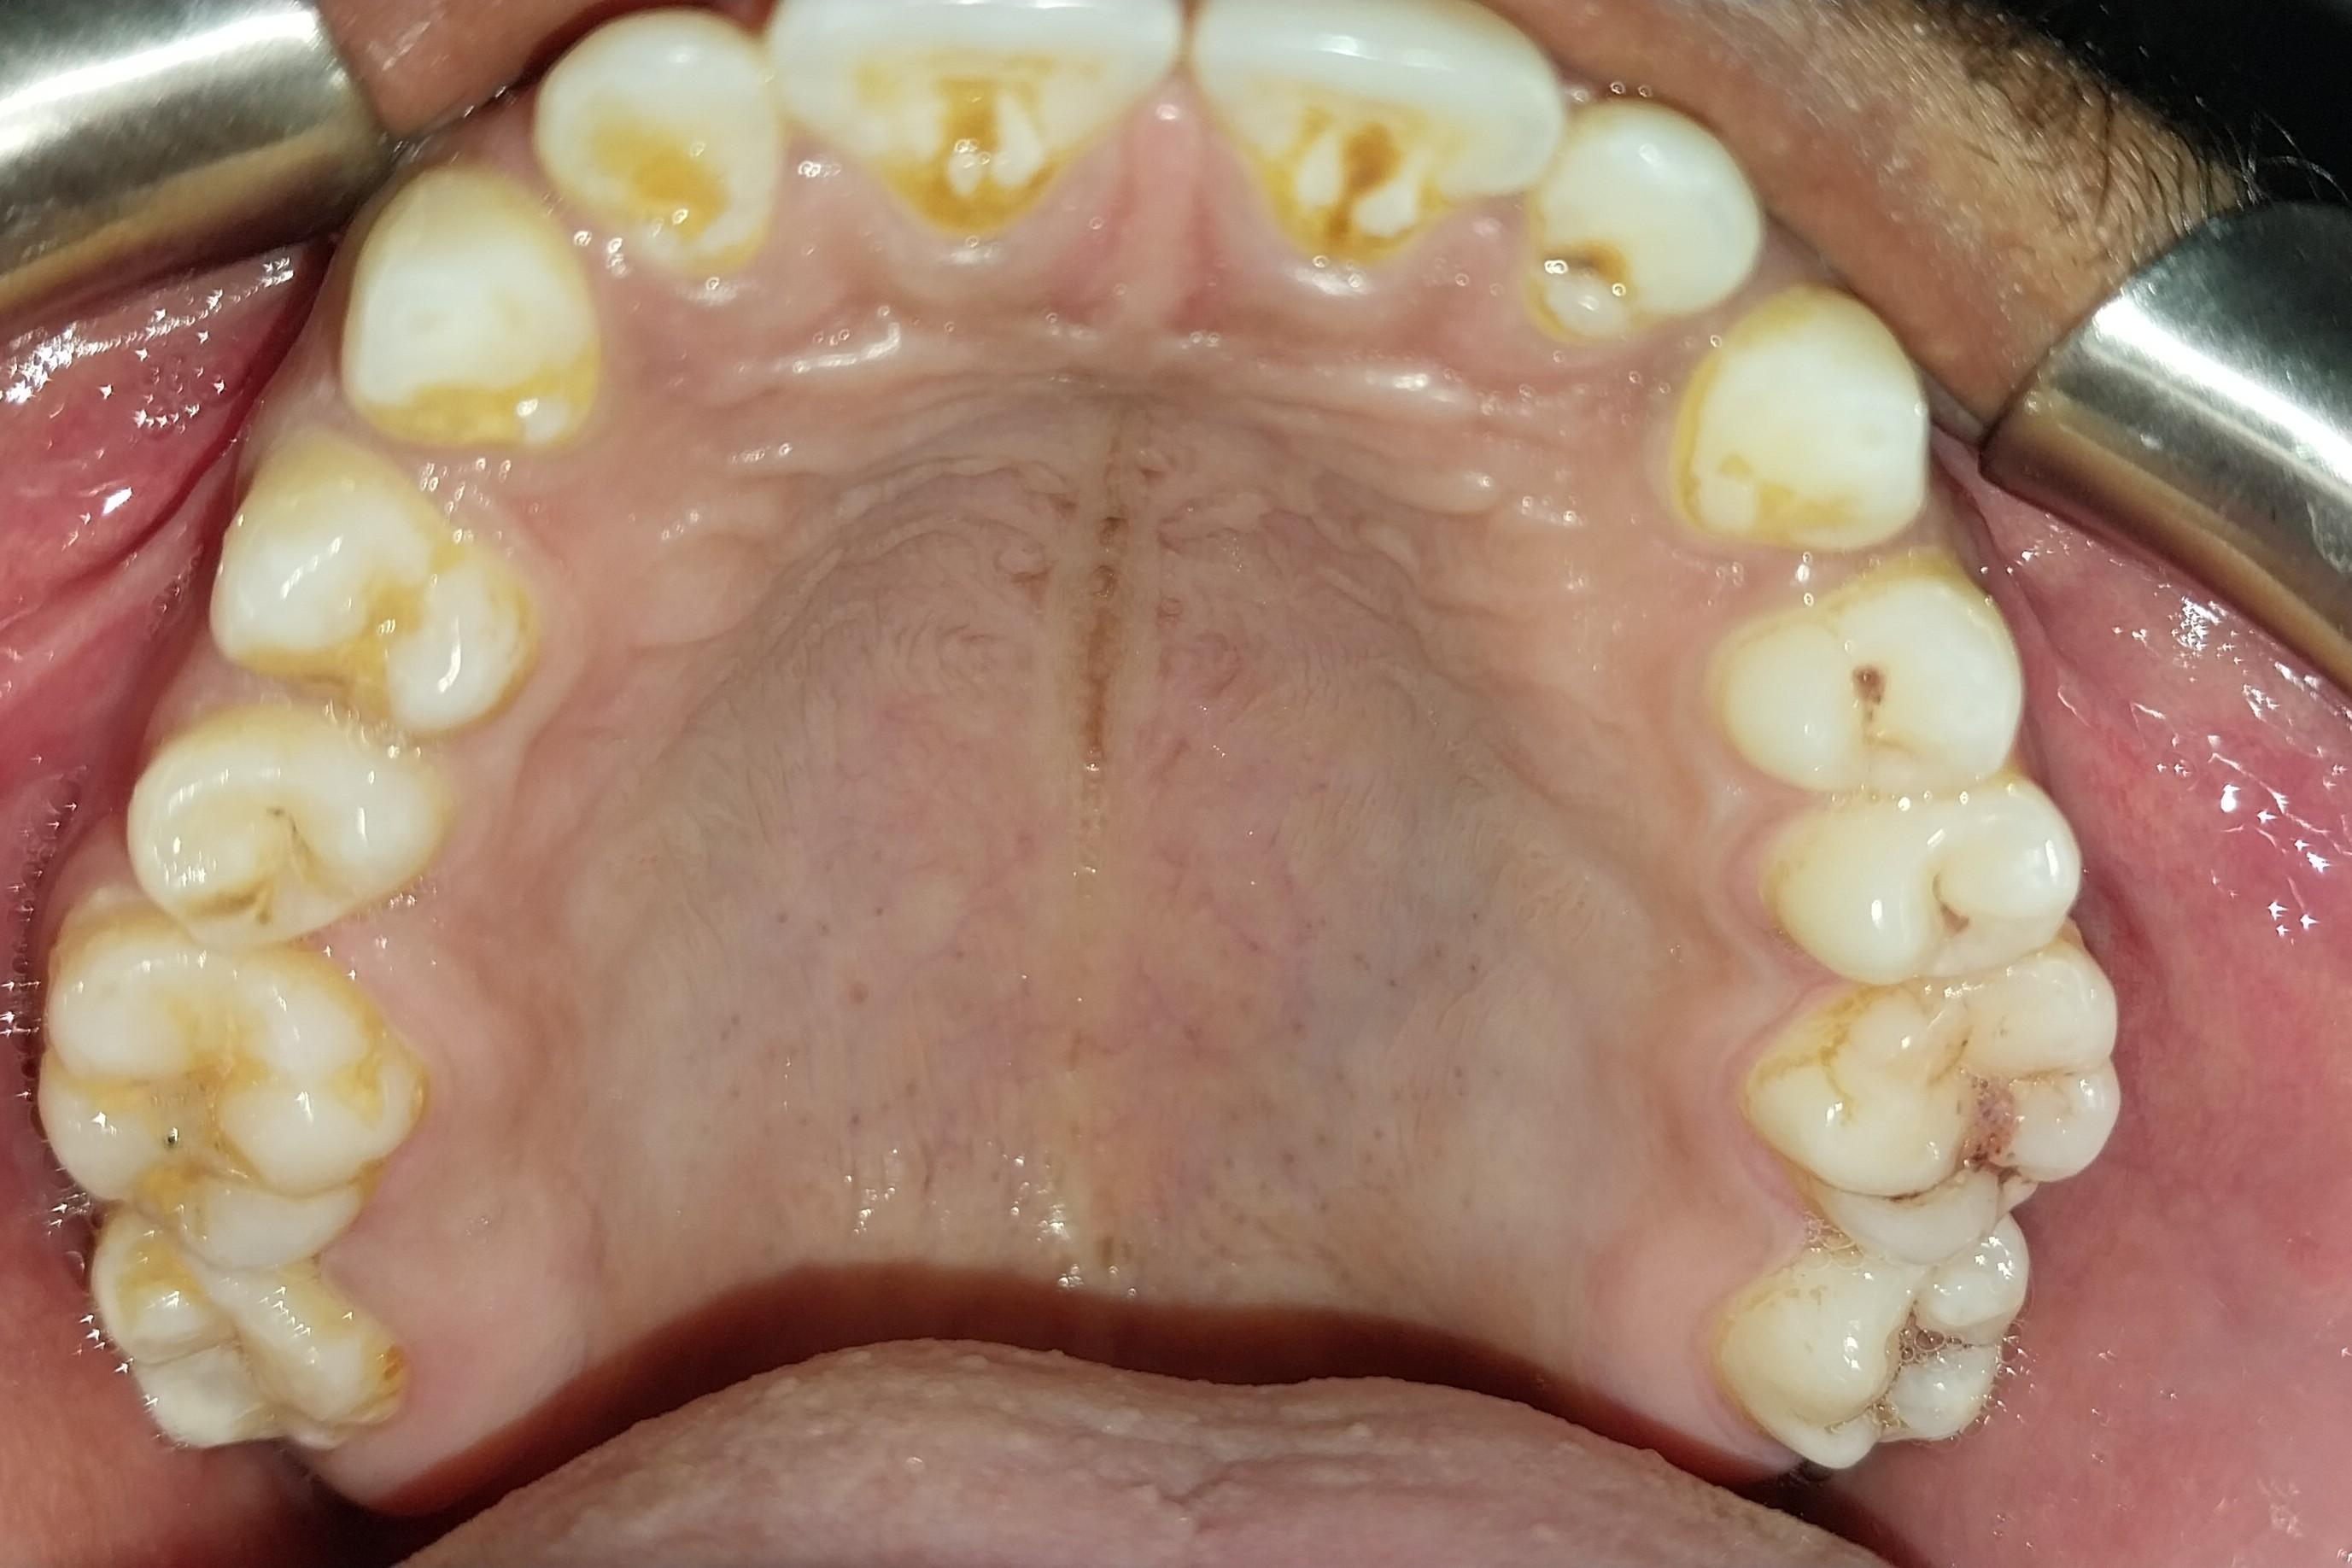D: (1760, 944, 2126, 1264), (1725, 1214, 2040, 1467), (1739, 570, 2027, 802), (1760, 789, 2083, 992)
